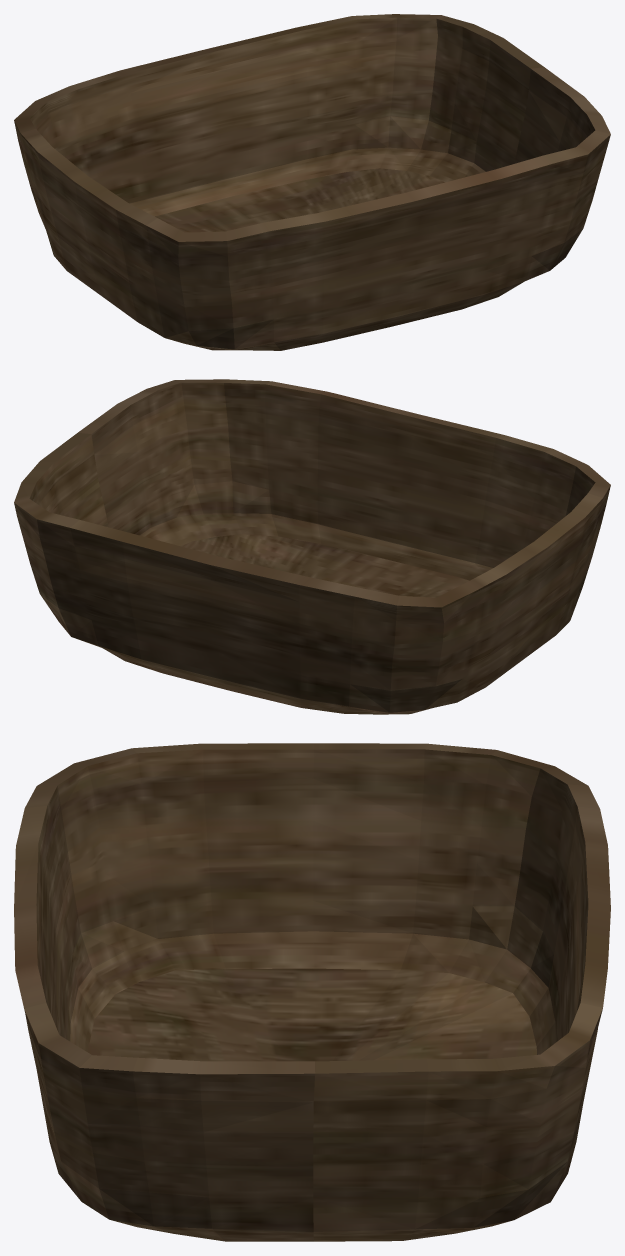
The model's file is ph_wicker_basket_01.glb.
The picture shows the model from 3 angles, top to bottom: view 1: azimuth 30°, elevation 25°; view 2: azimuth 150°, elevation 25°; view 3: azimuth 270°, elevation 25°; orthographic projection. The views are drawn at different scales.
Parts seen in each view (by area): view 1: wicker_shell; view 2: wicker_shell; view 3: wicker_shell.
Boxes of the visible parts, x1,y1,x2,y2 form: wicker_shell: (14,14,610,350); wicker_shell: (14,379,610,714); wicker_shell: (14,743,610,1241).
Size of the model in its own units: 0.3733 by 0.1118 by 0.2851.
1 material, 1 textured.
